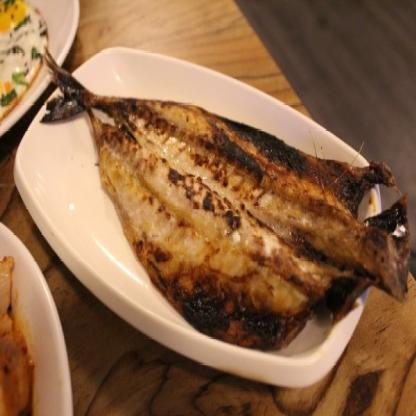Peixe: (37, 42, 410, 355)
